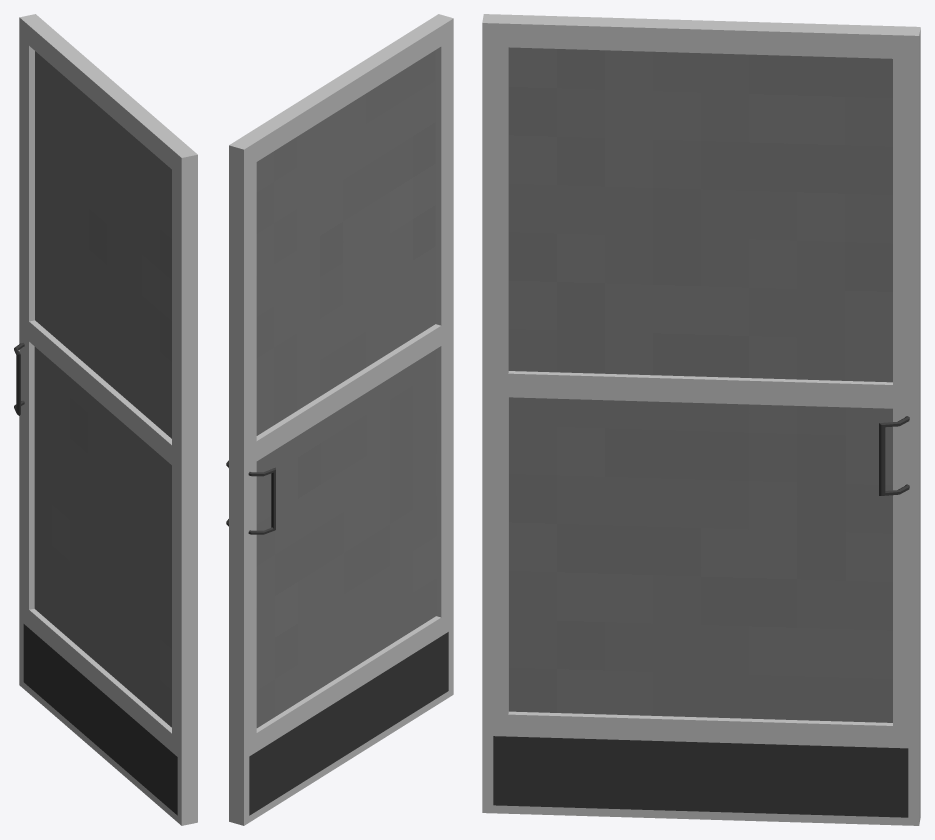
File: SW_corridor__R_lobby_R_Aula_Ovi_2_Ikkunaa_003.FBX
3 views of the same model, side by side, from view 1: azimuth 30°, elevation 25°; view 2: azimuth 150°, elevation 25°; view 3: azimuth 270°, elevation 25° (orthographic). The views are drawn at different scales.
Parts seen in each view (by area): view 1: SW_corridor__R_lobby_R_Aula_Ovi_2_Ikkunaa_003; view 2: SW_corridor__R_lobby_R_Aula_Ovi_2_Ikkunaa_003; view 3: SW_corridor__R_lobby_R_Aula_Ovi_2_Ikkunaa_003.
Boxes of the visible parts, x1=… form: SW_corridor__R_lobby_R_Aula_Ovi_2_Ikkunaa_003: x1=14, y1=14, x2=197, y2=825; SW_corridor__R_lobby_R_Aula_Ovi_2_Ikkunaa_003: x1=226, y1=14, x2=453, y2=825; SW_corridor__R_lobby_R_Aula_Ovi_2_Ikkunaa_003: x1=482, y1=14, x2=920, y2=825.
Bounding box in the file's own units: 16.35 × 103 × 204.
